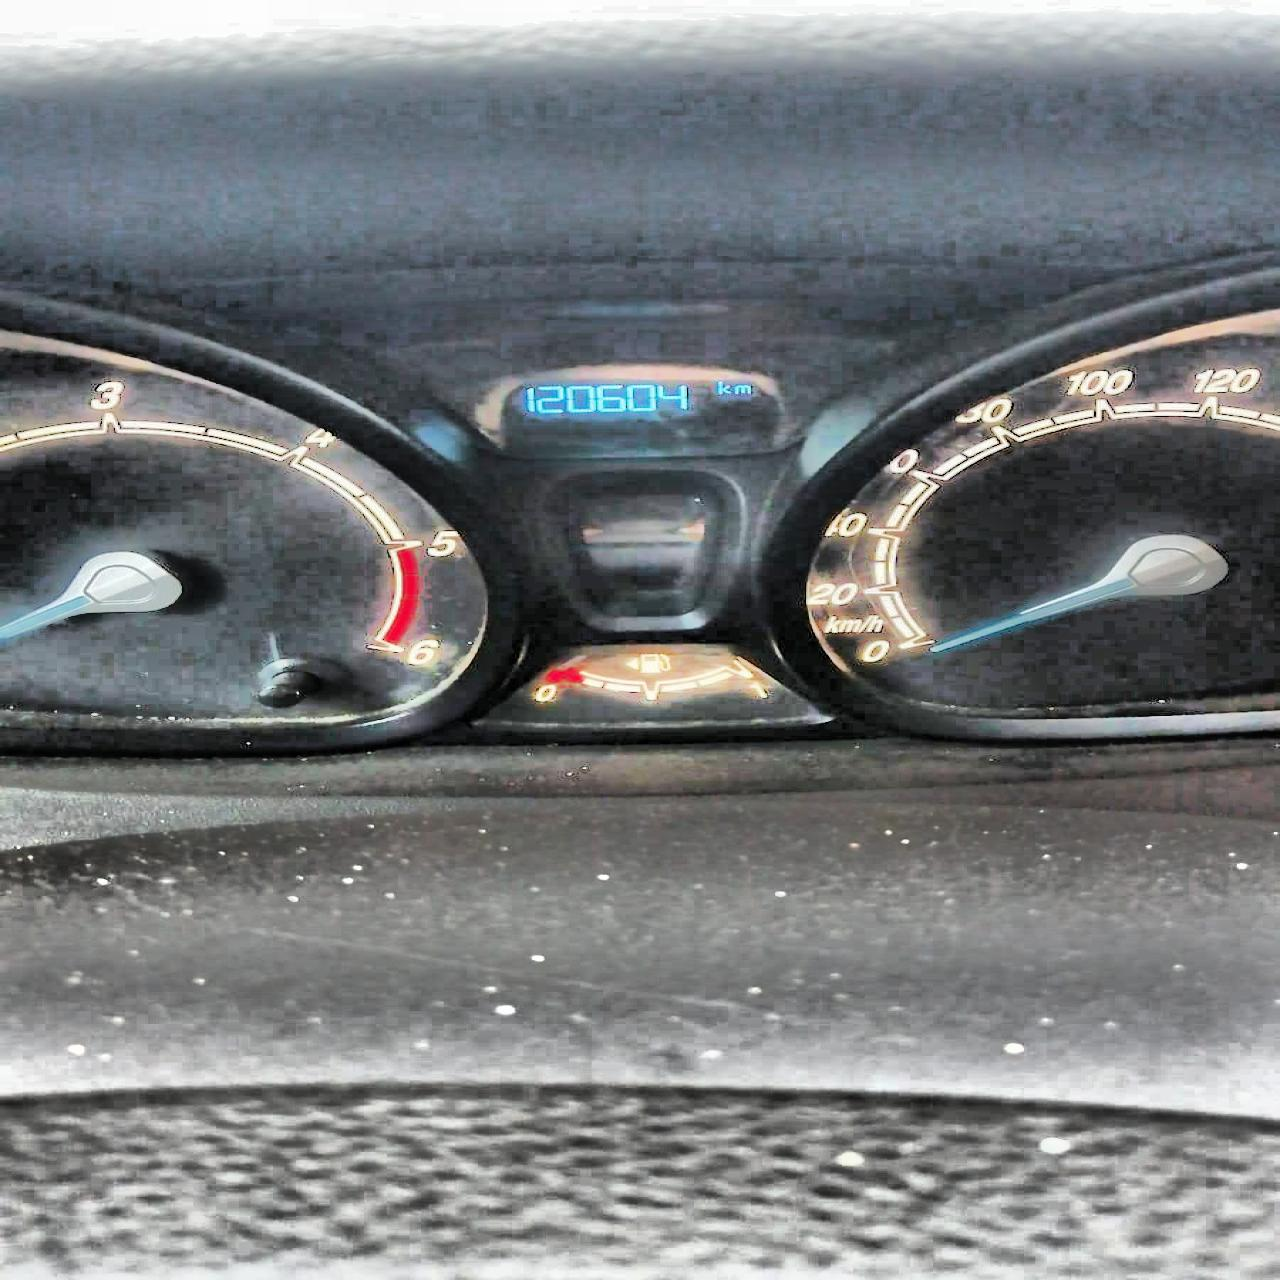0: (626, 382, 654, 413), (566, 384, 595, 413)
1: (524, 384, 533, 413)
2: (535, 384, 565, 414)
4: (655, 381, 688, 409)
6: (595, 382, 625, 413)
X: (714, 379, 731, 395), (733, 383, 749, 395)
odometer: (499, 372, 778, 440)
